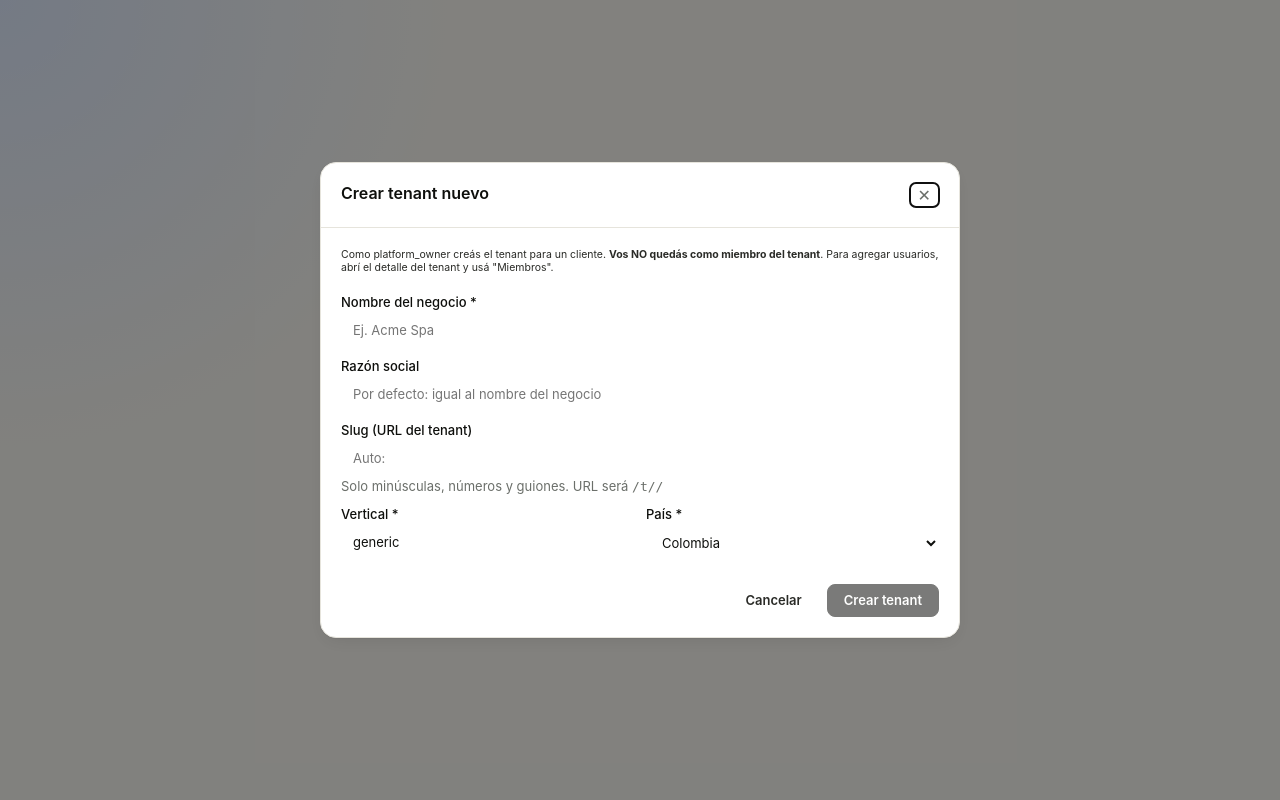
Test: <CreateTenantModal/> › muestra error cuando el backend falla
Type "Acme" into the field with test id "create-tenant-display-name" at (640, 330), box [341, 314, 939, 346]
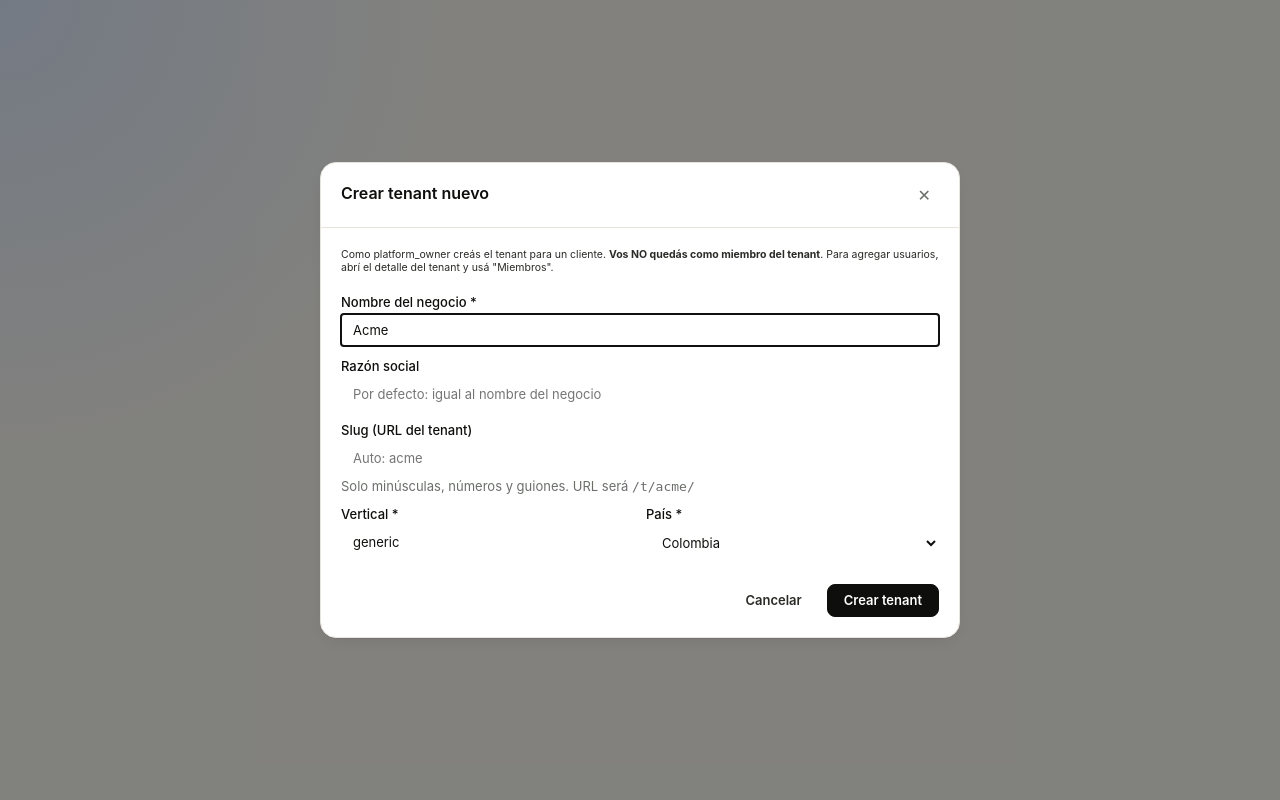
Click the button with test id "create-tenant-submit" at (883, 600), box [827, 584, 939, 617]
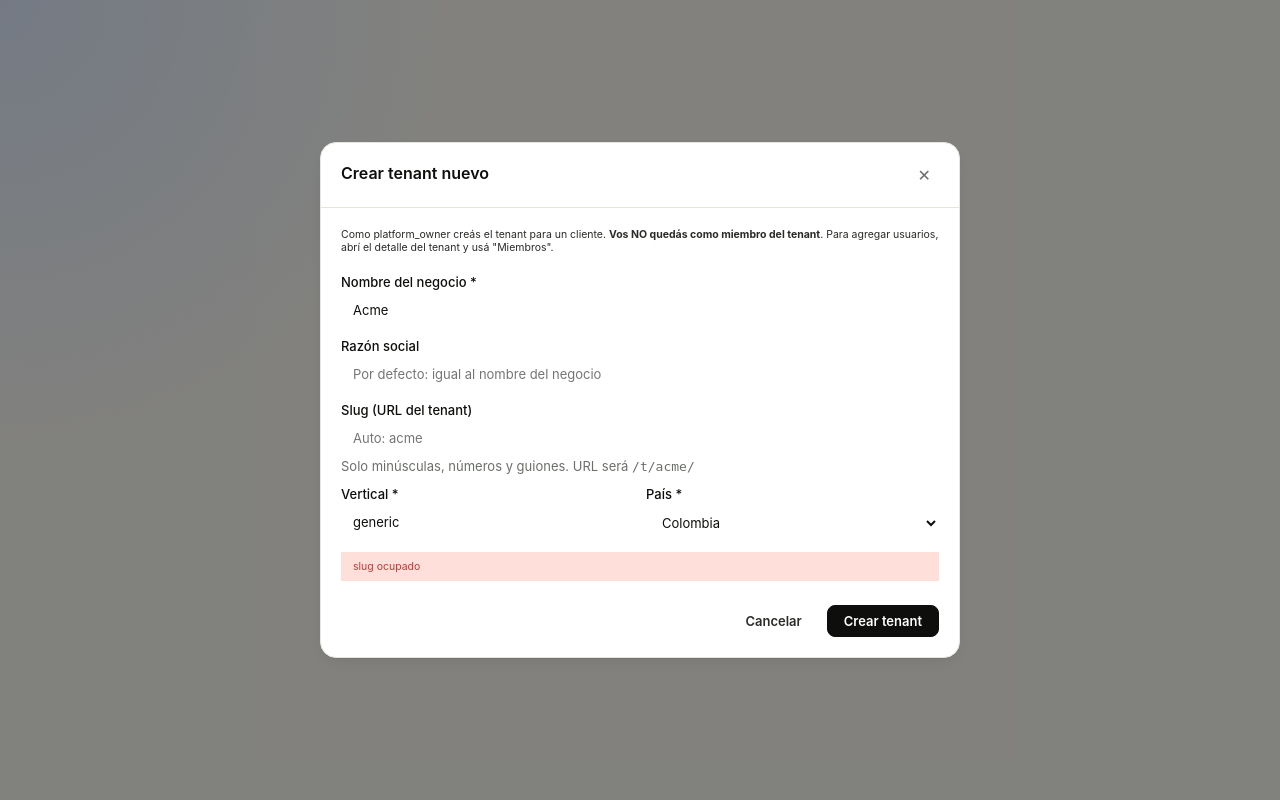
Expected: the message reads "slug ocupado", [353, 560, 420, 572]
